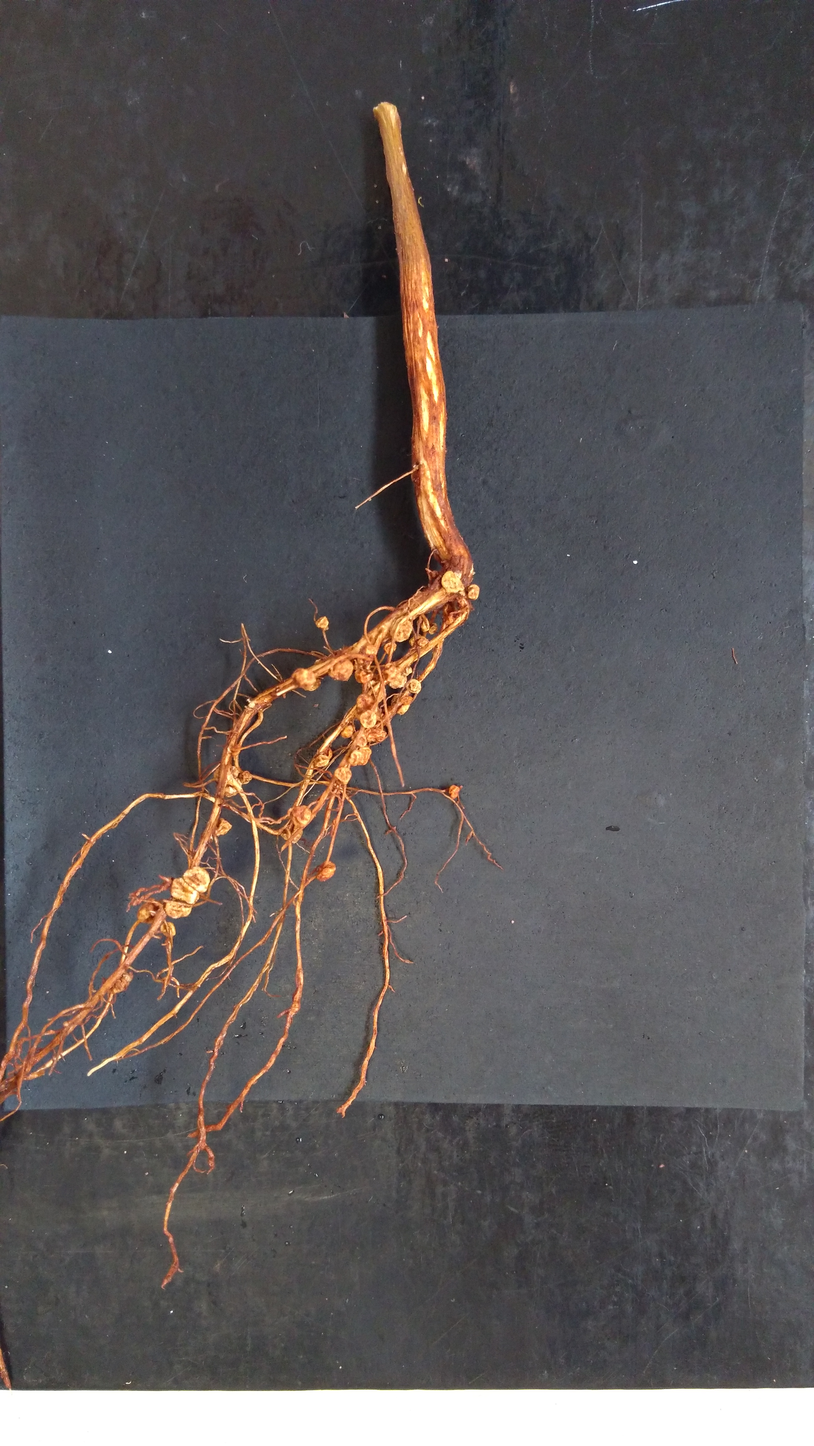nodule: (169, 876, 201, 904), (181, 865, 211, 894), (313, 859, 338, 886), (382, 662, 407, 689), (326, 659, 354, 683), (389, 617, 414, 643), (292, 666, 316, 692), (286, 804, 312, 828), (164, 901, 195, 920), (110, 971, 134, 995), (135, 901, 158, 926), (441, 570, 465, 593), (347, 747, 373, 766), (280, 823, 304, 843), (355, 693, 376, 714), (391, 692, 409, 715), (313, 748, 333, 768), (364, 727, 388, 743), (214, 817, 233, 836), (353, 668, 374, 685), (359, 710, 377, 729), (334, 767, 353, 784), (158, 921, 177, 938), (405, 678, 422, 693), (468, 582, 480, 601), (314, 615, 329, 630), (238, 770, 253, 785), (416, 617, 430, 632), (448, 784, 461, 800), (362, 642, 378, 655), (340, 725, 354, 739), (223, 785, 238, 798), (383, 641, 397, 654), (229, 765, 240, 779), (213, 765, 221, 784), (428, 622, 438, 635), (416, 637, 429, 647), (400, 695, 413, 704), (291, 1001, 301, 1012), (403, 666, 412, 676), (408, 636, 416, 646)
